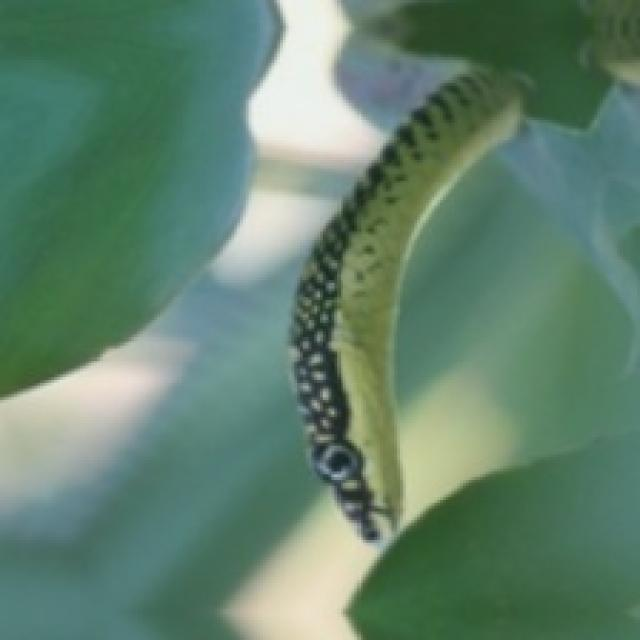paradise tree snake: (291, 71, 517, 537)
